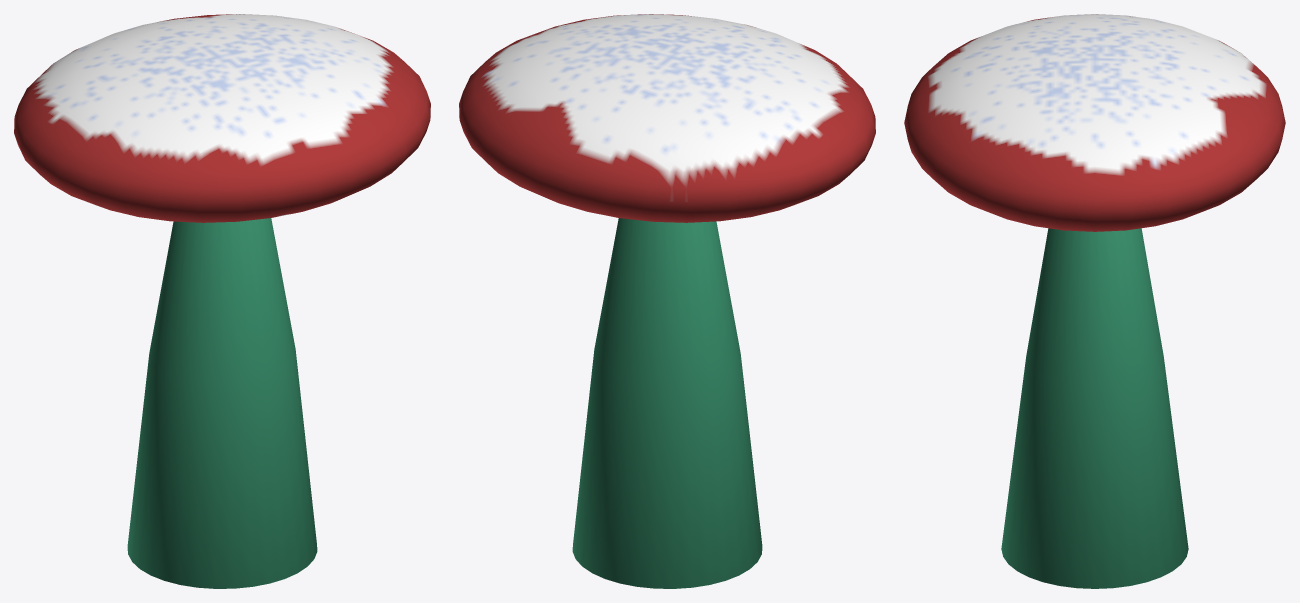
Rendered from Mushroom_01.obj.
3 renders of one model, left to right at view 1: azimuth 30°, elevation 25°; view 2: azimuth 150°, elevation 25°; view 3: azimuth 270°, elevation 25°, orthographic.
Parts seen in each view (by area): view 1: Top, Stem; view 2: Top, Stem; view 3: Top, Stem.
Boxes of the visible parts, left/top/right/bottom form: Top: left=14, top=14, right=430, bottom=222; Stem: left=127, top=218, right=317, bottom=588; Top: left=459, top=14, right=875, bottom=222; Stem: left=572, top=218, right=762, bottom=588; Top: left=904, top=14, right=1285, bottom=231; Stem: left=1001, top=228, right=1188, bottom=588.
Size of the model in its own units: 6.21 by 7.88 by 5.59.
